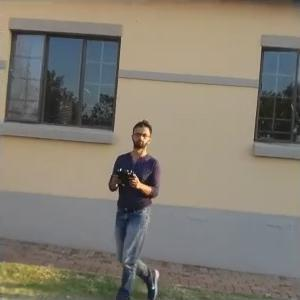follow: (95, 114, 159, 298)
